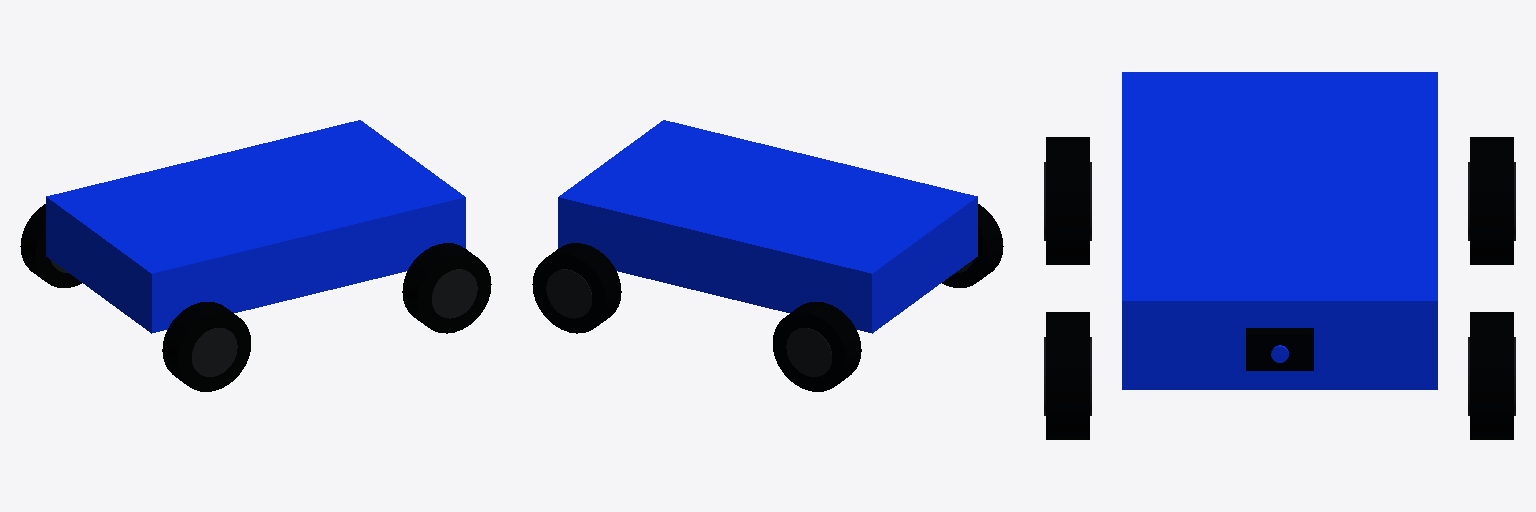
robot.urdf — lars_dummy:
<?xml version="1.0"?>
<robot name="lars_dummy">
  <material name="lars_body_blue">
    <color rgba="0.05 0.22 0.95 1.0"/>
  </material>
  <material name="lars_dark">
    <color rgba="0.02 0.025 0.03 1.0"/>
  </material>
  <material name="lars_tread">
    <color rgba="0.12 0.13 0.14 1.0"/>
  </material>

  <!-- Host-only root used to apply the measured IMU orientation to the model. -->
  <link name="vehicle_visualization_frame"/>

  <joint name="vehicle_visualization_joint" type="fixed">
    <parent link="vehicle_visualization_frame"/>
    <child link="base_link"/>
    <origin xyz="0 0 0" rpy="0 0 0"/>
  </joint>

  <link name="base_link">
    <visual>
      <origin xyz="0 0 0.12" rpy="0 0 0"/>
      <geometry>
        <box size="0.55 0.32 0.10"/>
      </geometry>
      <material name="lars_body_blue"/>
    </visual>
    <collision>
      <origin xyz="0 0 0.12" rpy="0 0 0"/>
      <geometry>
        <box size="0.55 0.32 0.10"/>
      </geometry>
    </collision>
  </link>

  <!-- Front ToF optical frame: x right, y down, z forward. -->
  <link name="tof_front">
    <visual>
      <geometry>
        <box size="0.07 0.04 0.018"/>
      </geometry>
      <material name="lars_dark"/>
    </visual>
    <visual>
      <origin xyz="0 0 0.011" rpy="0 0 0"/>
      <geometry>
        <cylinder radius="0.009" length="0.004"/>
      </geometry>
      <material name="lars_body_blue"/>
    </visual>
  </link>

  <joint name="tof_front_joint" type="fixed">
    <parent link="base_link"/>
    <child link="tof_front"/>
    <origin xyz="0.285 0 0.12" rpy="-1.57079632679 0 -1.57079632679"/>
  </joint>

  <link name="front_left_wheel_link">
    <visual>
      <origin xyz="0 0 0" rpy="1.57079632679 0 0"/>
      <geometry>
        <cylinder radius="0.065" length="0.045"/>
      </geometry>
      <material name="lars_dark"/>
    </visual>
    <visual>
      <origin xyz="0 0 0" rpy="1.57079632679 0 0"/>
      <geometry>
        <cylinder radius="0.04" length="0.048"/>
      </geometry>
      <material name="lars_tread"/>
    </visual>
  </link>

  <joint name="front_left_wheel_joint" type="revolute">
    <parent link="base_link"/>
    <child link="front_left_wheel_link"/>
    <origin xyz="0.21 0.215 0.055" rpy="0 0 0"/>
    <axis xyz="0 0 1"/>
    <limit lower="-0.65" upper="0.65" effort="2.0" velocity="3.0"/>
  </joint>

  <link name="front_right_wheel_link">
    <visual>
      <origin xyz="0 0 0" rpy="1.57079632679 0 0"/>
      <geometry>
        <cylinder radius="0.065" length="0.045"/>
      </geometry>
      <material name="lars_dark"/>
    </visual>
    <visual>
      <origin xyz="0 0 0" rpy="1.57079632679 0 0"/>
      <geometry>
        <cylinder radius="0.04" length="0.048"/>
      </geometry>
      <material name="lars_tread"/>
    </visual>
  </link>

  <joint name="front_right_wheel_joint" type="revolute">
    <parent link="base_link"/>
    <child link="front_right_wheel_link"/>
    <origin xyz="0.21 -0.215 0.055" rpy="0 0 0"/>
    <axis xyz="0 0 1"/>
    <limit lower="-0.65" upper="0.65" effort="2.0" velocity="3.0"/>
  </joint>

  <link name="rear_left_wheel_link">
    <visual>
      <origin xyz="0 0 0" rpy="1.57079632679 0 0"/>
      <geometry>
        <cylinder radius="0.065" length="0.045"/>
      </geometry>
      <material name="lars_dark"/>
    </visual>
    <visual>
      <origin xyz="0 0 0" rpy="1.57079632679 0 0"/>
      <geometry>
        <cylinder radius="0.04" length="0.048"/>
      </geometry>
      <material name="lars_tread"/>
    </visual>
  </link>

  <joint name="rear_left_wheel_joint" type="fixed">
    <parent link="base_link"/>
    <child link="rear_left_wheel_link"/>
    <origin xyz="-0.21 0.215 0.055" rpy="0 0 0"/>
  </joint>

  <link name="rear_right_wheel_link">
    <visual>
      <origin xyz="0 0 0" rpy="1.57079632679 0 0"/>
      <geometry>
        <cylinder radius="0.065" length="0.045"/>
      </geometry>
      <material name="lars_dark"/>
    </visual>
    <visual>
      <origin xyz="0 0 0" rpy="1.57079632679 0 0"/>
      <geometry>
        <cylinder radius="0.04" length="0.048"/>
      </geometry>
      <material name="lars_tread"/>
    </visual>
  </link>

  <joint name="rear_right_wheel_joint" type="fixed">
    <parent link="base_link"/>
    <child link="rear_right_wheel_link"/>
    <origin xyz="-0.21 -0.215 0.055" rpy="0 0 0"/>
  </joint>
</robot>

--- Render facts (derived) ---
The picture shows the robot from 3 angles, left to right: view 1: azimuth 30°, elevation 25°; view 2: azimuth 150°, elevation 25°; view 3: azimuth 270°, elevation 25°; orthographic projection.
Robot: lars_dummy — 7 links, 6 joints (2 revolute, 4 fixed); root link vehicle_visualization_frame; default pose: all joints at 0.
Visible links, largest first — view 1: base_link, front_right_wheel_link, rear_right_wheel_link, rear_left_wheel_link; view 2: base_link, front_left_wheel_link, rear_left_wheel_link, rear_right_wheel_link; view 3: base_link, front_left_wheel_link, front_right_wheel_link, rear_left_wheel_link, rear_right_wheel_link, tof_front.
Boxes of the visible links, box(x1,y1,x2,y2) form: base_link: box(46, 120, 465, 333); front_right_wheel_link: box(402, 243, 491, 333); rear_right_wheel_link: box(162, 302, 250, 391); rear_left_wheel_link: box(20, 204, 81, 287); base_link: box(558, 120, 977, 333); front_left_wheel_link: box(532, 243, 621, 333); rear_left_wheel_link: box(773, 302, 861, 391); rear_right_wheel_link: box(942, 204, 1003, 287); base_link: box(1122, 72, 1437, 389); front_left_wheel_link: box(1468, 312, 1515, 439); front_right_wheel_link: box(1044, 312, 1091, 439); rear_left_wheel_link: box(1468, 137, 1515, 264); rear_right_wheel_link: box(1044, 137, 1091, 264); tof_front: box(1246, 328, 1313, 370).
Size in the robot's own frame: 0.573 by 0.478 by 0.18 metres.
Geometry: primitives only (box / cylinder / sphere), no mesh files.
